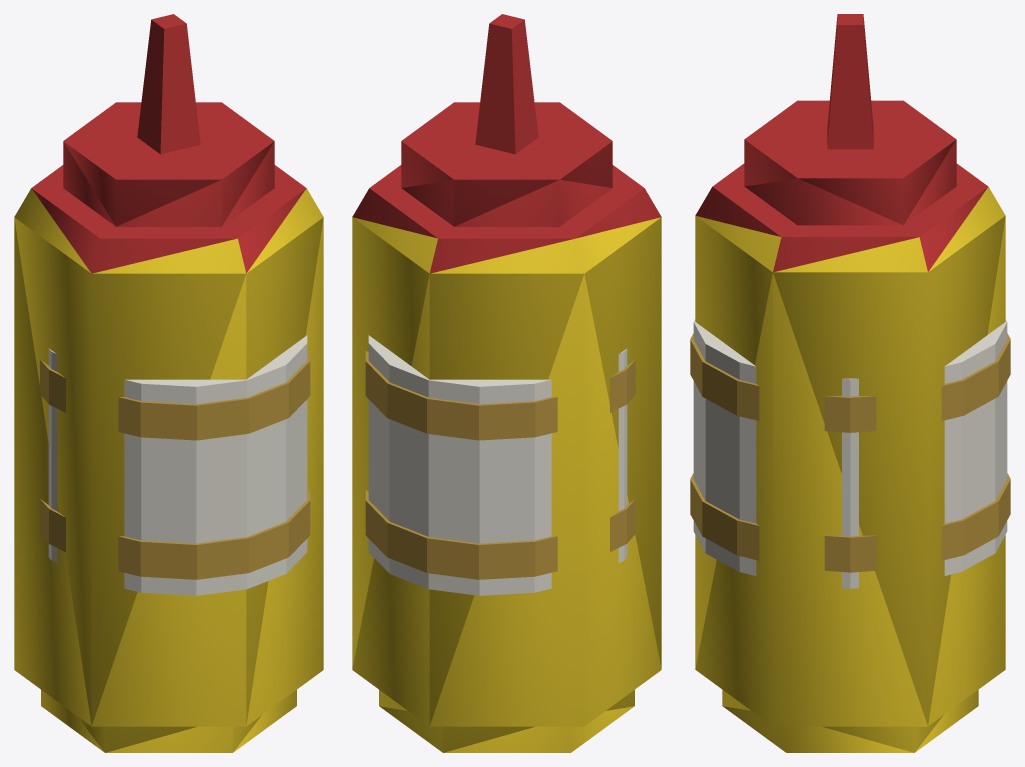
File: bottle-musterd.glb
The picture shows the model from 3 angles, left to right: view 1: azimuth 30°, elevation 25°; view 2: azimuth 150°, elevation 25°; view 3: azimuth 270°, elevation 25°; orthographic projection.
Parts seen in each view (by area): view 1: bottle-musterd; view 2: bottle-musterd; view 3: bottle-musterd.
Boxes of the visible parts, x1,y1,x2,y2 form: bottle-musterd: [14, 14, 323, 752]; bottle-musterd: [352, 14, 661, 752]; bottle-musterd: [690, 14, 1010, 752].
Bounding box in the file's own units: 0.1441 × 0.3931 × 0.1664.
